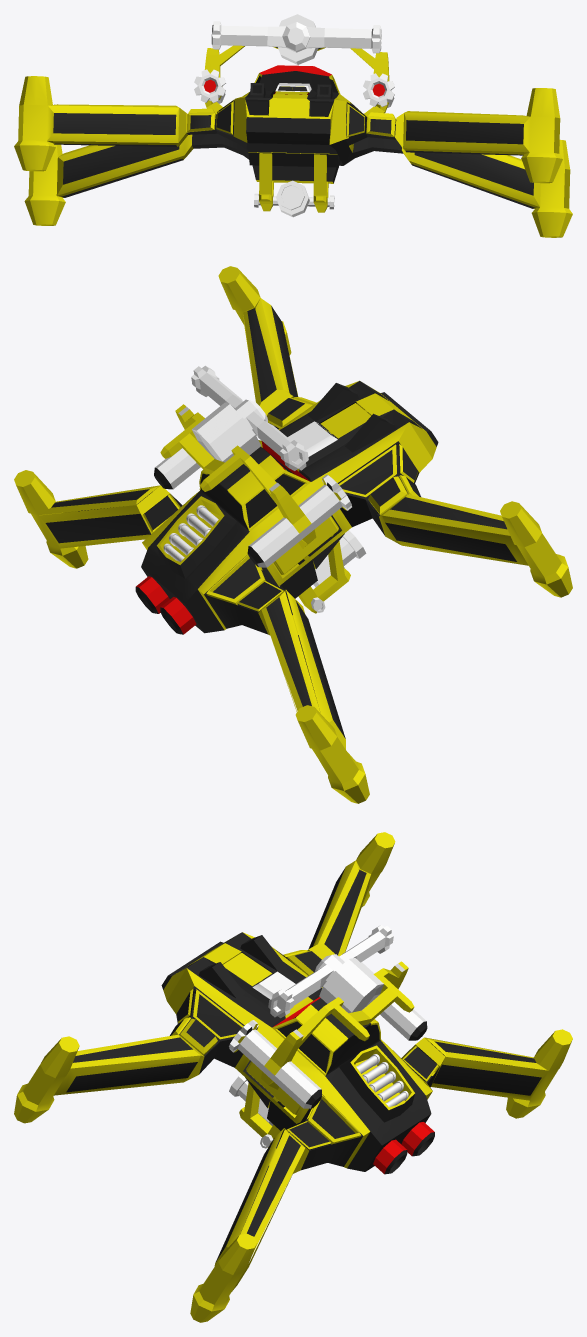
Rendered from drone_costum_Cube.001.fbx.
The picture shows the model from 3 angles, top to bottom: view 1: azimuth 30°, elevation 25°; view 2: azimuth 150°, elevation 25°; view 3: azimuth 270°, elevation 25°; orthographic projection. The views are drawn at different scales.
Parts seen in each view (by area): view 1: drone_costum_Cube_001; view 2: drone_costum_Cube_001; view 3: drone_costum_Cube_001.
Part boxes in pixels (x1,y1,x2,y2): drone_costum_Cube_001: (14, 14, 572, 237); drone_costum_Cube_001: (14, 266, 572, 803); drone_costum_Cube_001: (14, 832, 572, 1322).
Bounding box in the file's own units: 1925 × 833 × 1649.
